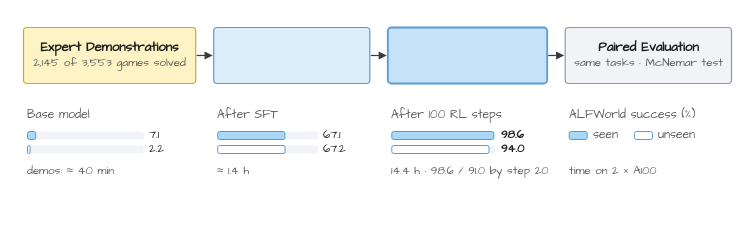
Some shapes in this 754 by 230 pixel diagram are drawn without their labels. The centre of each missing label's shape, as x and y in pixels:
Multi-Turn RL StepCredit-RL · 100 steps: (x=467, y=55)
SFT loss on tool calls · 1 epoch: (x=291, y=55)
